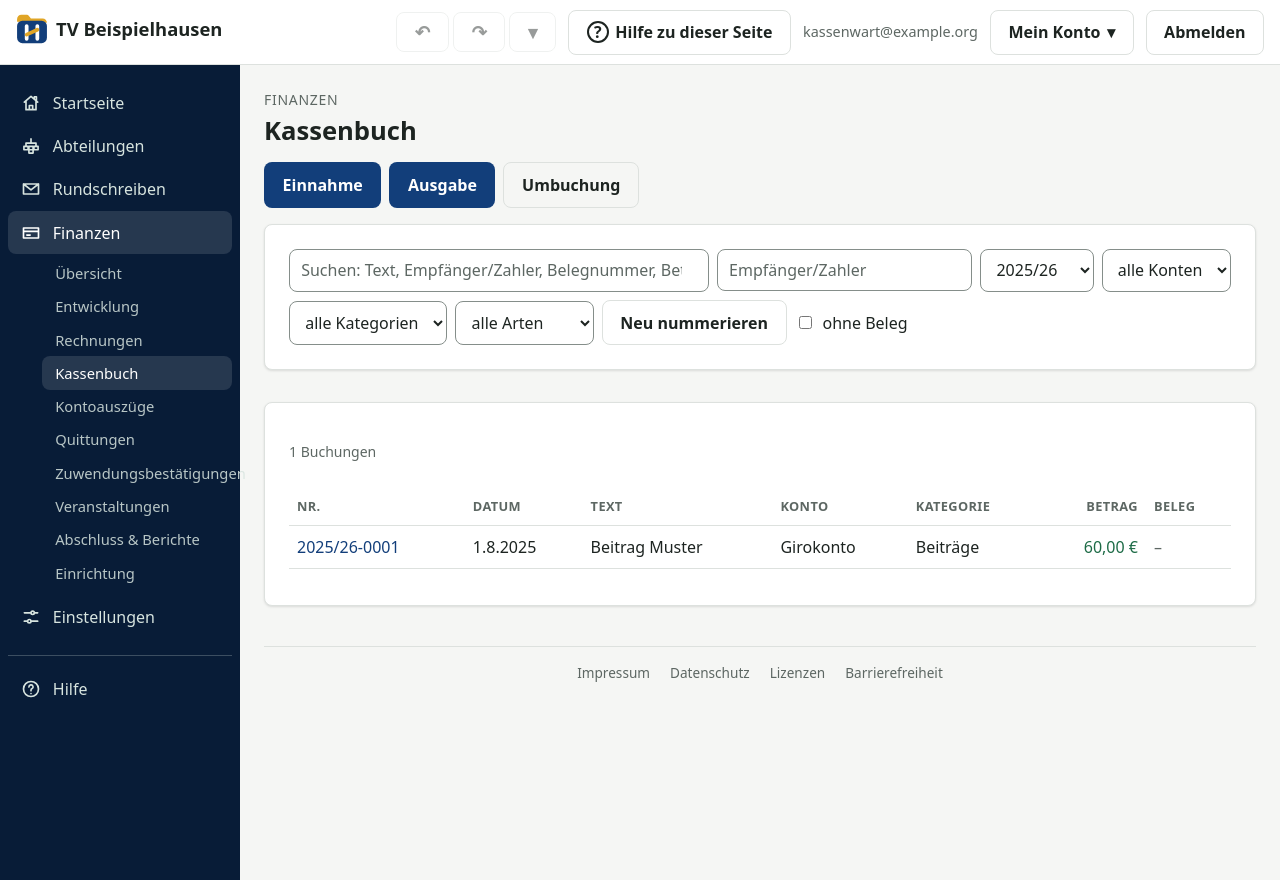
Test: Kasse › erfasst eine Einnahme mit Komma-Betrag
Expected: the button "2025/26-0001" is shown, 297,535 -> 400,559
Click the button "Einnahme" at {"x": 323, "y": 185}, box 264,162 -> 381,208
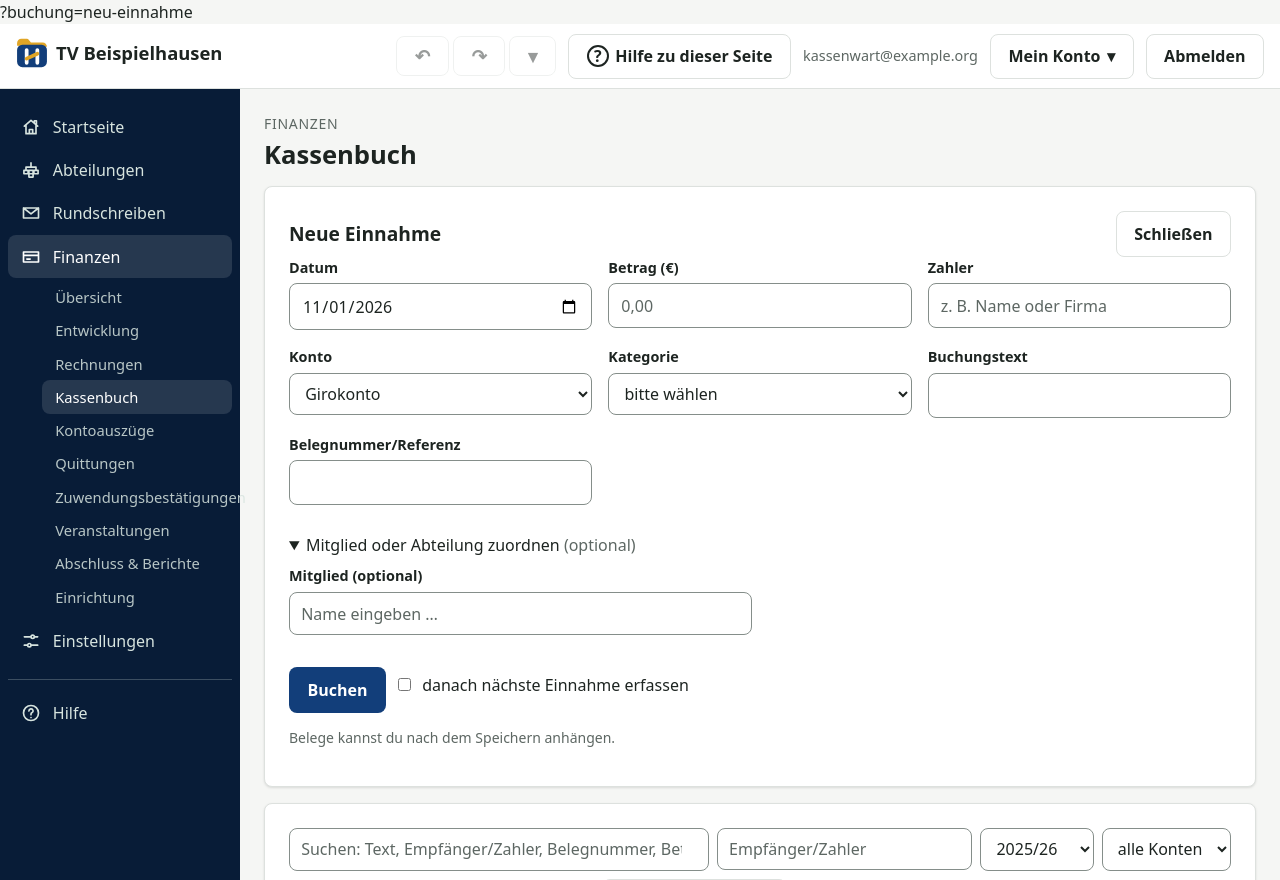
Type "1.234,50" into the field labelled "Betrag (€)" at {"x": 760, "y": 306}, box 608,283 -> 912,328
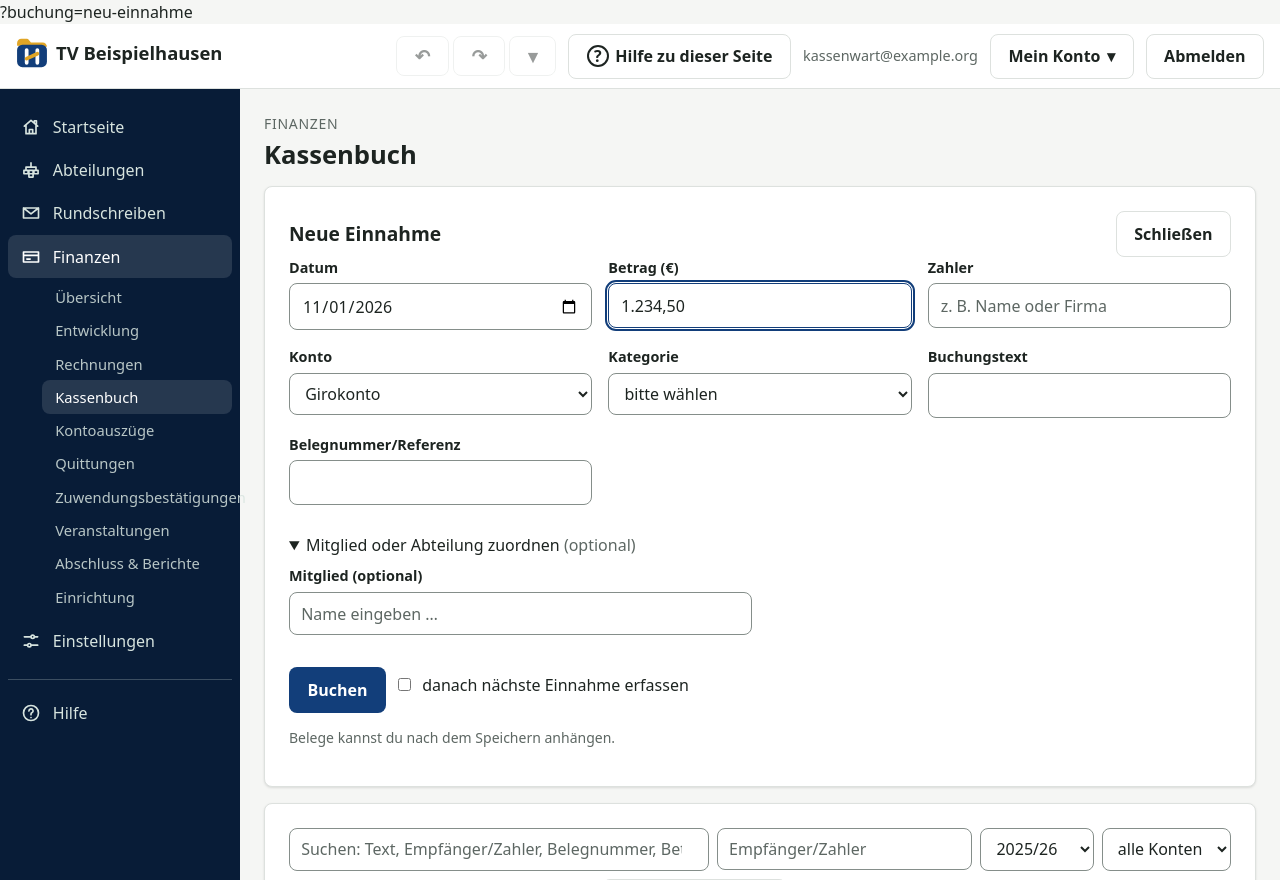
Select "Beiträge" in the dropdown labelled "Kategorie" at {"x": 760, "y": 394}, box 608,372 -> 912,414
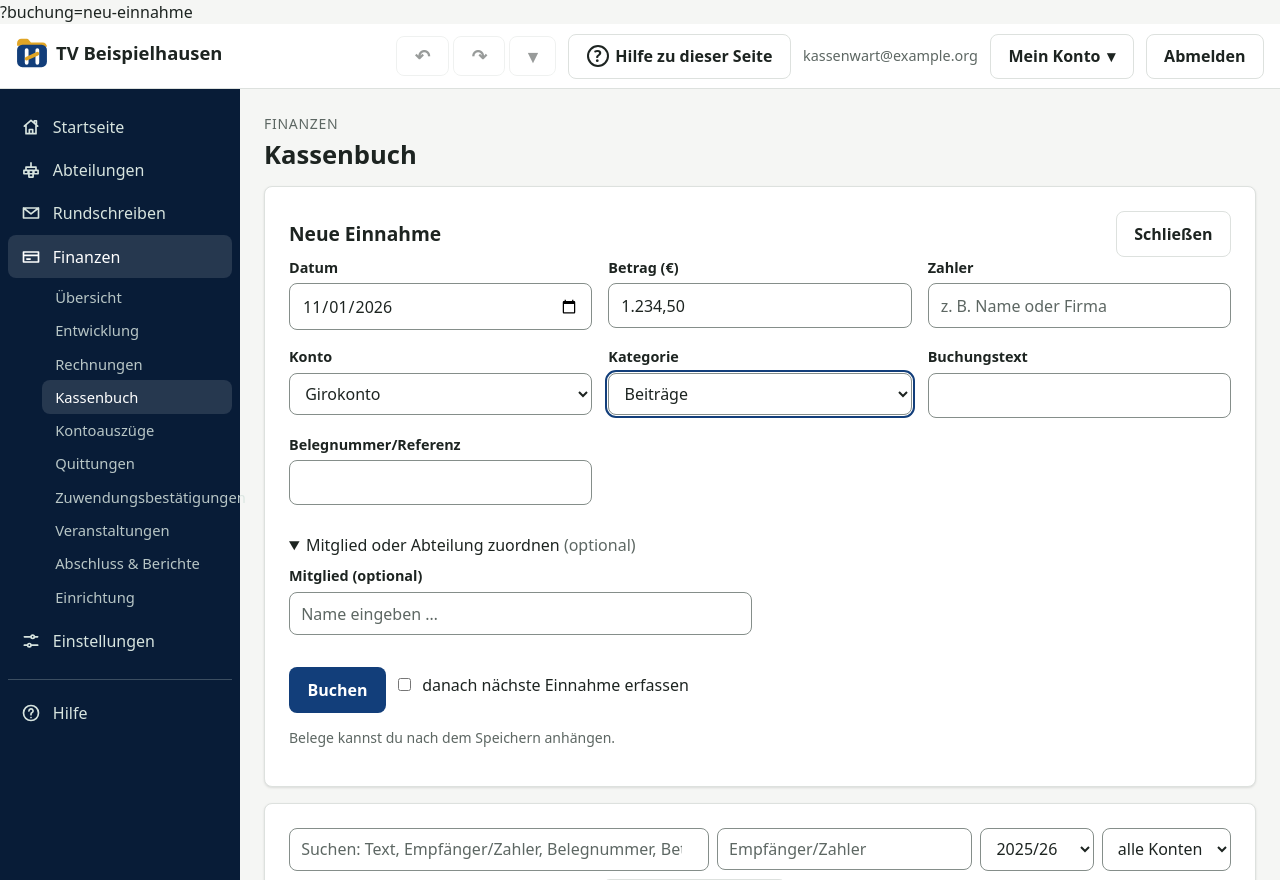
Type "Spende" into the field labelled "Buchungstext" at {"x": 1079, "y": 395}, box 928,372 -> 1231,418
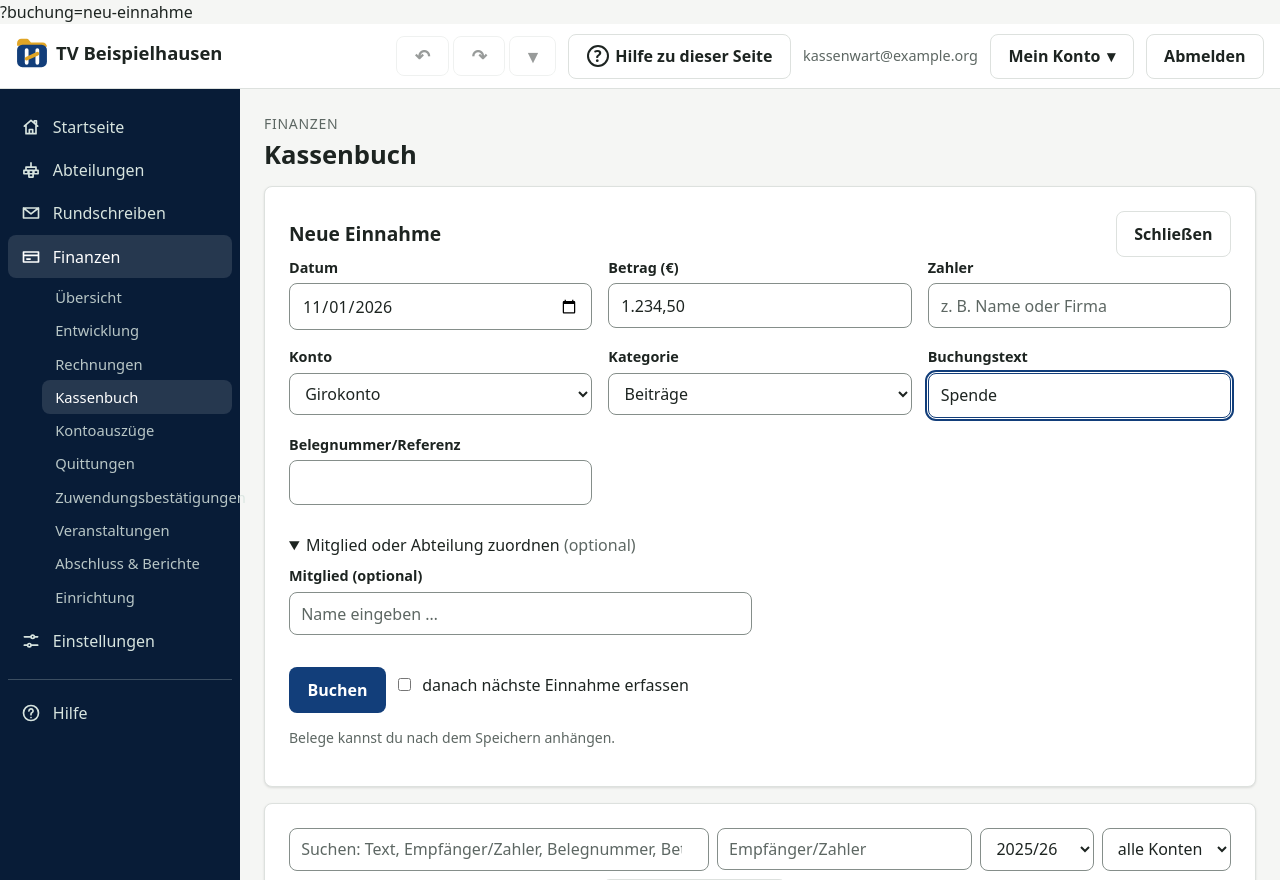
Click the button "Buchen" at {"x": 338, "y": 690}, box 289,667 -> 386,712
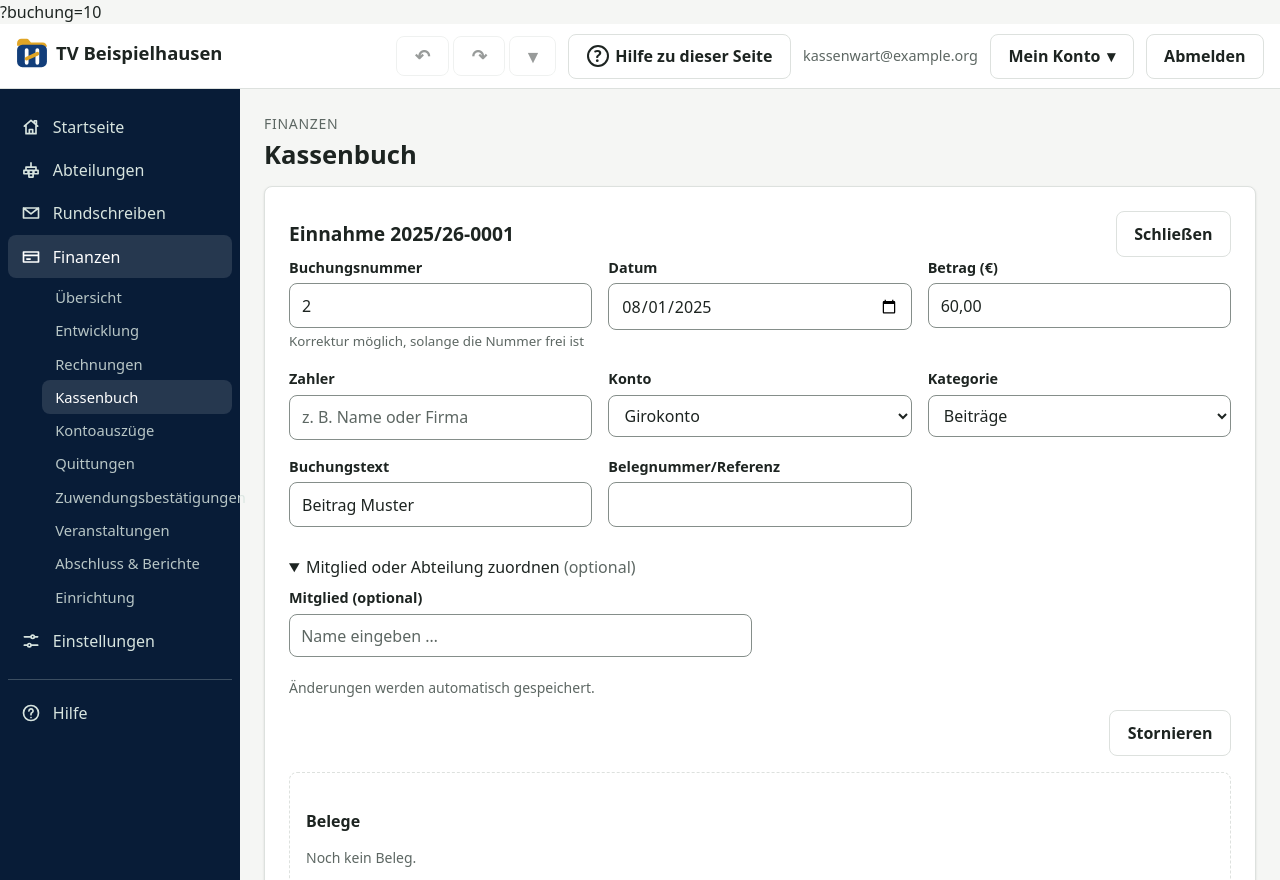
Expected: the heading "Einnahme 2025/26-0001" is shown, 289,220 -> 514,248
